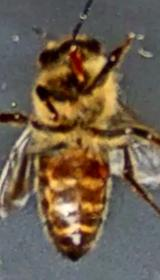varroa_mite: (89, 152, 114, 182)
